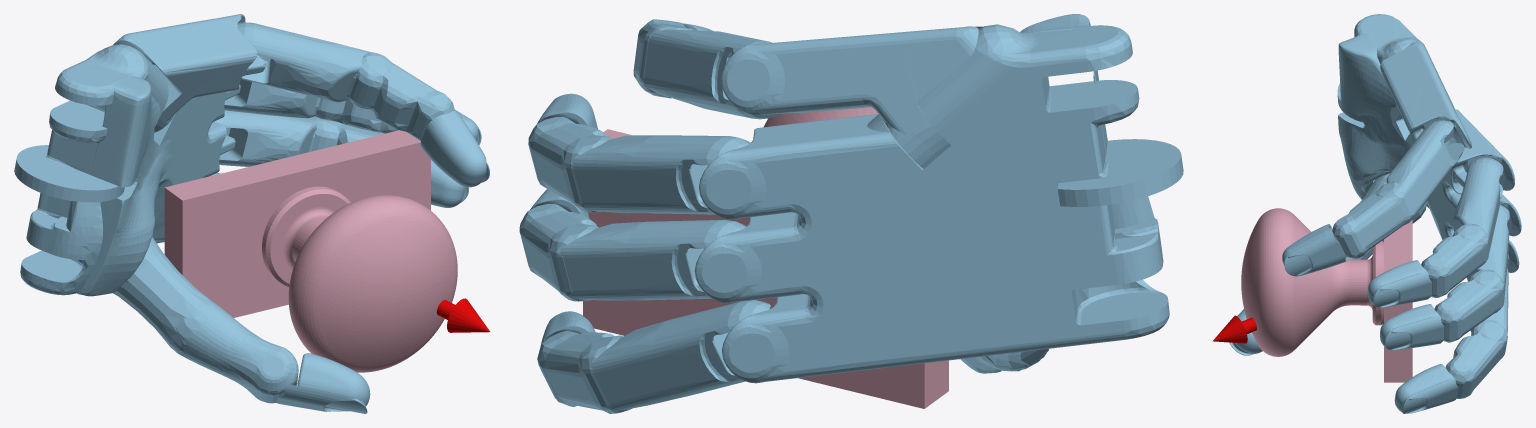
The picture shows the model from 3 angles, left to right: view 1: azimuth 30°, elevation 25°; view 2: azimuth 150°, elevation 25°; view 3: azimuth 270°, elevation 25°; orthographic projection. The views are drawn at different scales.
Parts seen in each view (by area): view 1: world, door_knob.stl; view 2: world, door_knob.stl; view 3: world, door_knob.stl.
Part boxes in pixels (box(x1,y1,x2,y2)): world: box(14, 14, 490, 413); door_knob.stl: box(164, 130, 457, 372); world: box(519, 14, 1183, 413); door_knob.stl: box(583, 107, 948, 408); world: box(1213, 14, 1521, 413); door_knob.stl: box(1241, 182, 1412, 382).
Bounding box in the file's own units: 0.183 × 0.127 × 0.1352.
